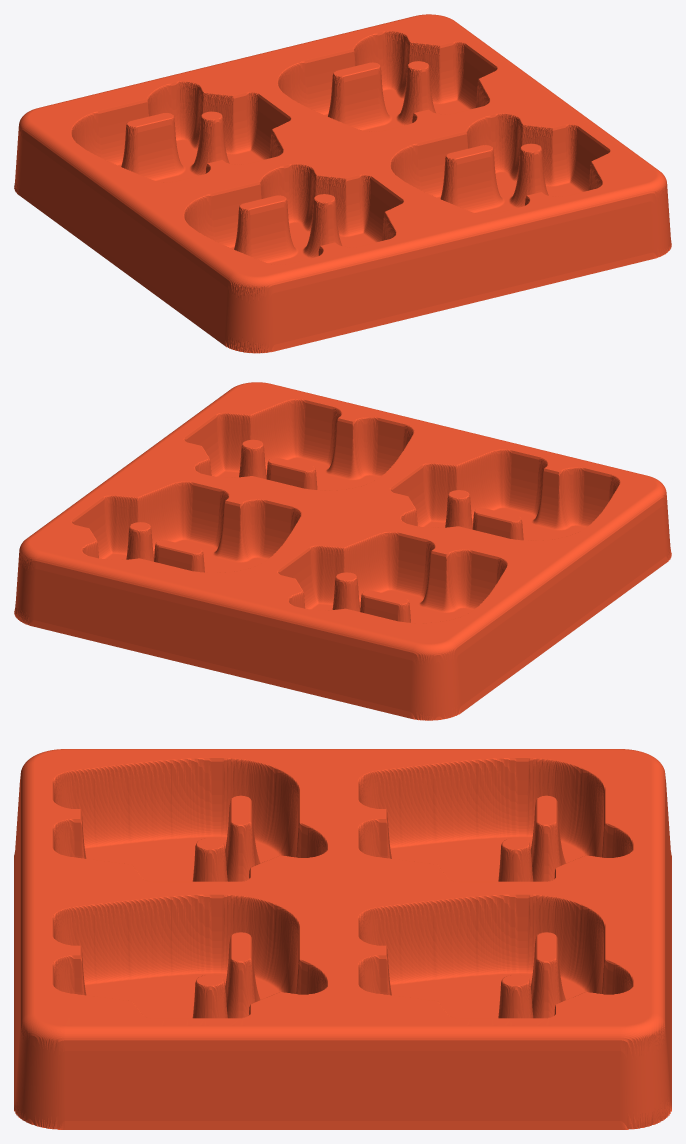
The model's file is mold.glb.
3 renders of one model, top to bottom at view 1: azimuth 30°, elevation 25°; view 2: azimuth 150°, elevation 25°; view 3: azimuth 270°, elevation 25°, orthographic. The views are drawn at different scales.
Visible parts, largest first — view 1: geometry_0; view 2: geometry_0; view 3: geometry_0.
Part boxes in pixels (bbox=[...]): geometry_0: bbox=[14, 14, 671, 353]; geometry_0: bbox=[14, 382, 671, 720]; geometry_0: bbox=[14, 749, 671, 1129].
Bounding box in the file's own units: 0.1218 × 0.0185 × 0.1157.
